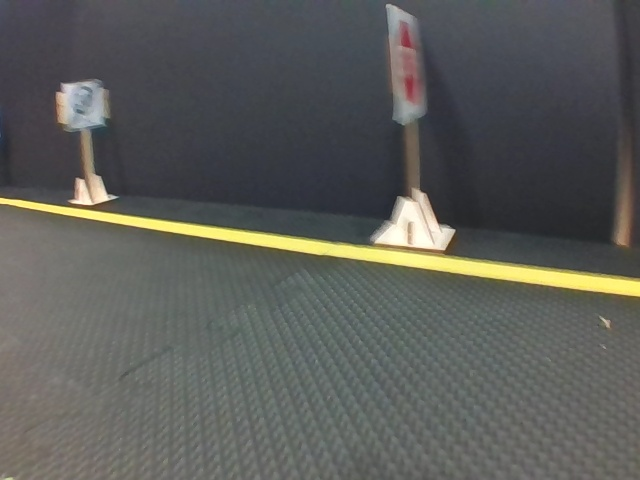no30: (64, 81, 104, 125)
stop: (388, 8, 425, 118)
